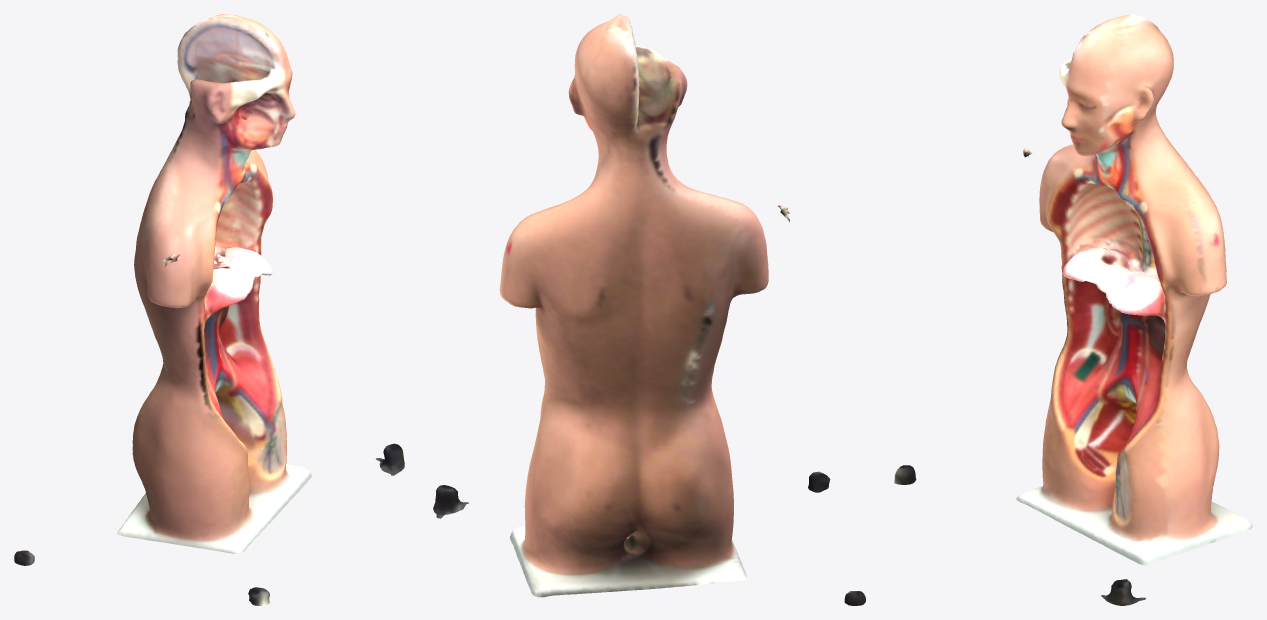
Rendered from heart-anatomical.glb.
The picture shows the model from 3 angles, left to right: view 1: azimuth 30°, elevation 25°; view 2: azimuth 150°, elevation 25°; view 3: azimuth 270°, elevation 25°; orthographic projection. The views are drawn at different scales.
Visible parts, largest first — view 1: Object_2; view 2: Object_2; view 3: Object_2.
Part boxes in pixels (x1=…): Object_2: x1=14, y1=14, x2=404, y2=605; Object_2: x1=433, y1=14, x2=865, y2=605; Object_2: x1=894, y1=14, x2=1252, y2=605.
Bounding box in the file's own units: 2.52 × 3 × 1.94.
1 material, 1 textured.
